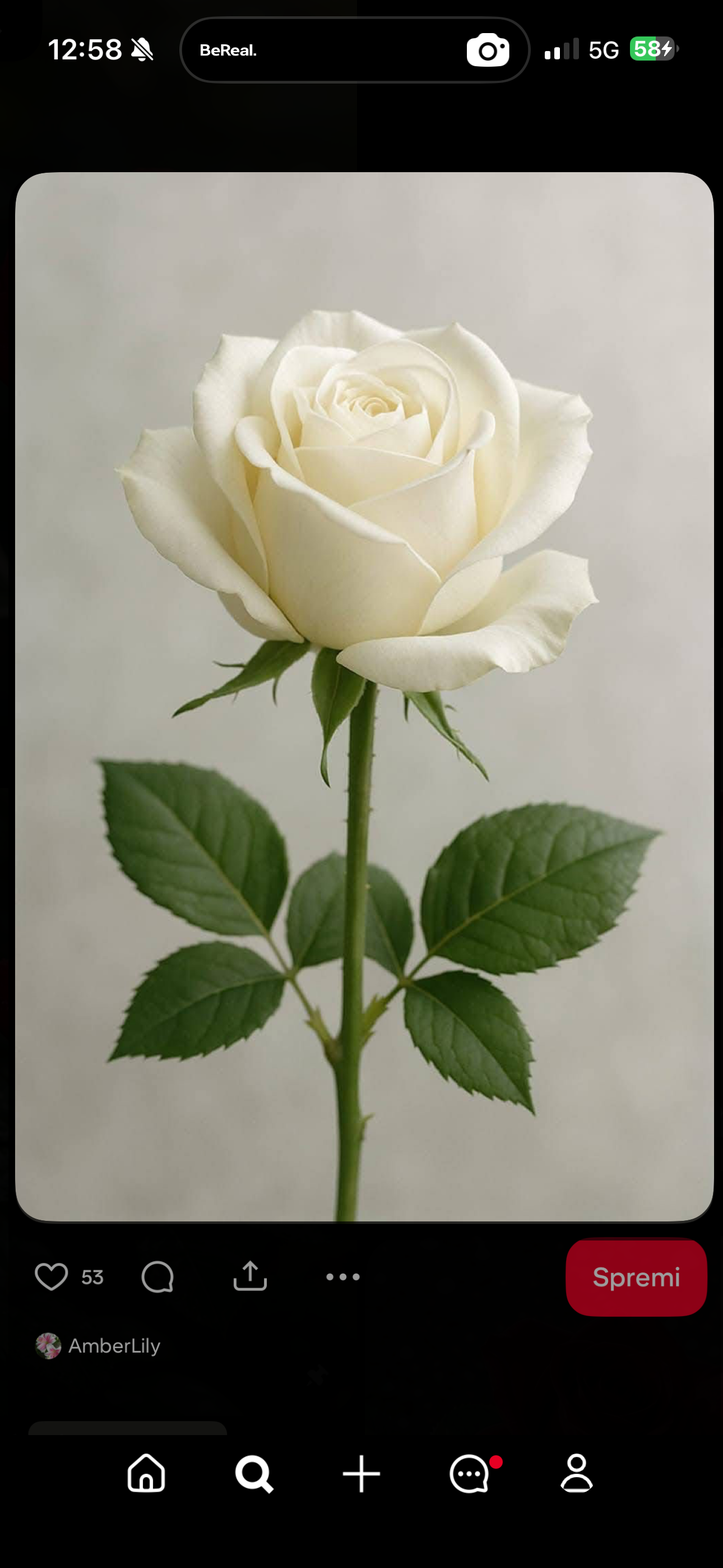rose: (113, 304, 599, 697)
